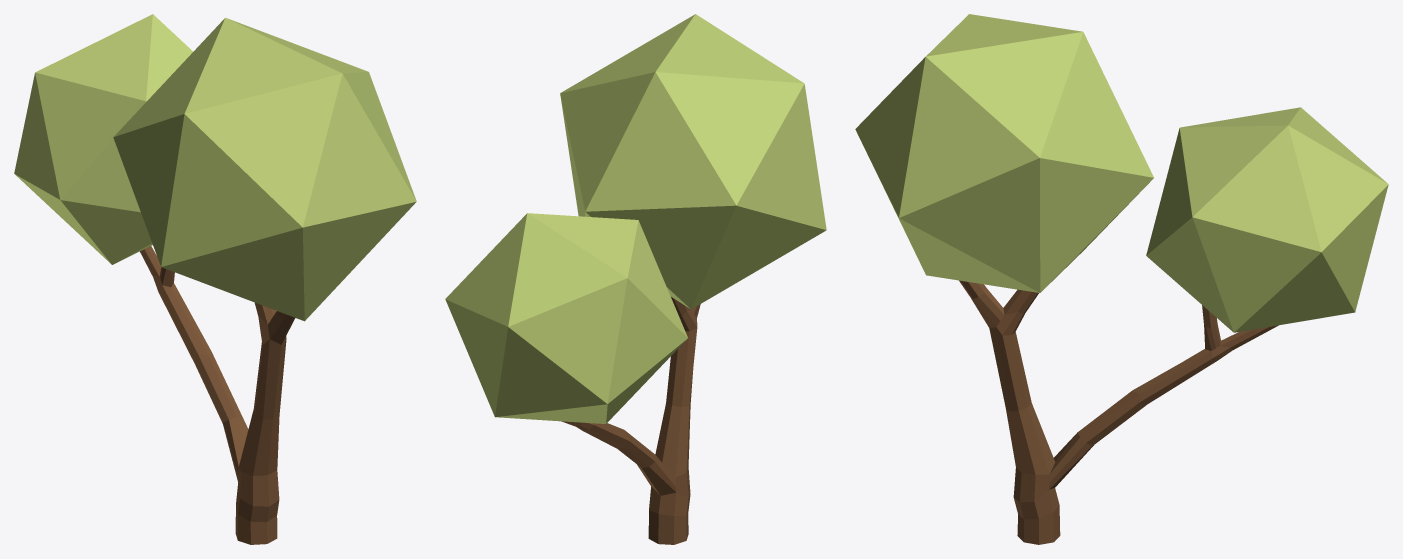
The model's file is Tree3.gltf.
3 renders of one model, left to right at view 1: azimuth 30°, elevation 25°; view 2: azimuth 150°, elevation 25°; view 3: azimuth 270°, elevation 25°, orthographic. The views are drawn at different scales.
Visible parts, largest first — view 1: Tree3_Icosphere.008; view 2: Tree3_Icosphere.008; view 3: Tree3_Icosphere.008.
Part boxes in pixels (bbox=[...]): Tree3_Icosphere.008: bbox=[14, 14, 416, 544]; Tree3_Icosphere.008: bbox=[445, 14, 826, 544]; Tree3_Icosphere.008: bbox=[855, 14, 1388, 544].
Size of the model in its own units: 2.06 by 4.08 by 3.95.
